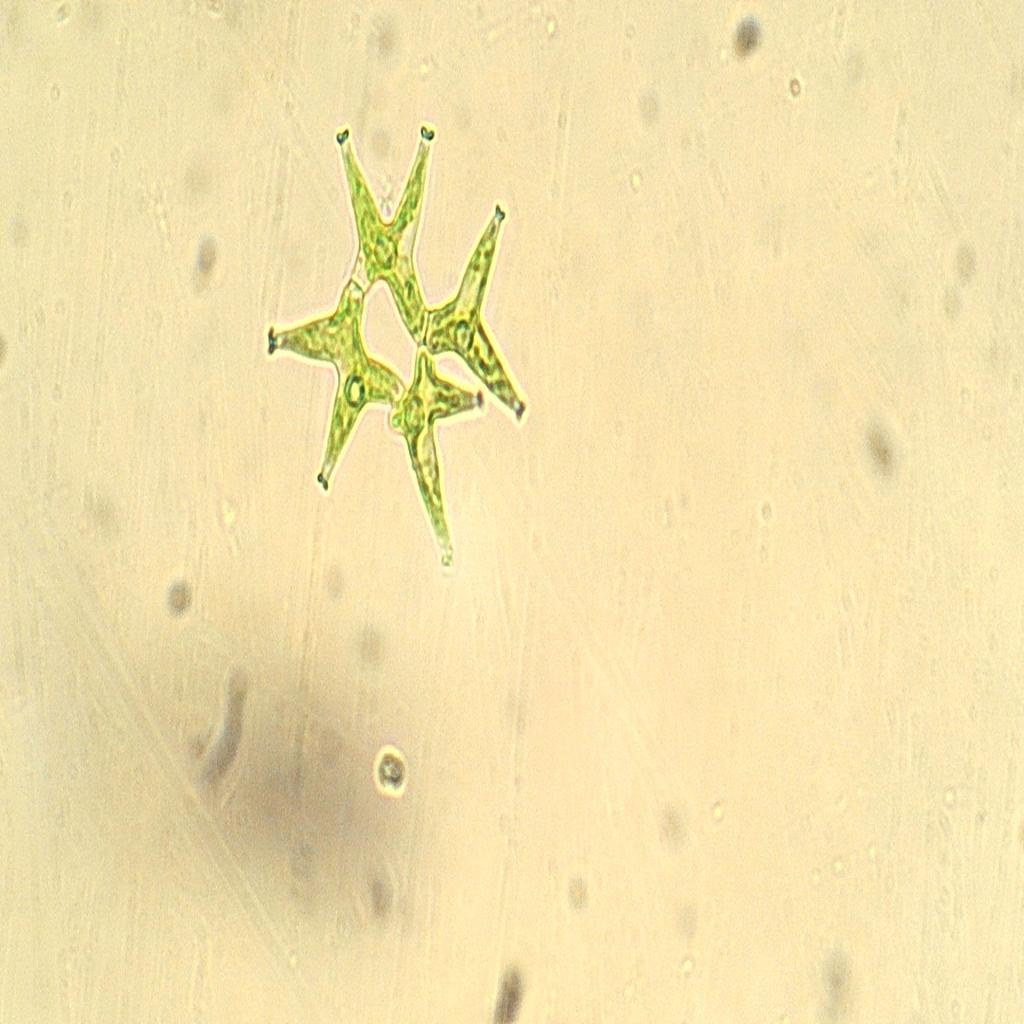Pediastrum_75FI: (252, 102, 546, 585)
